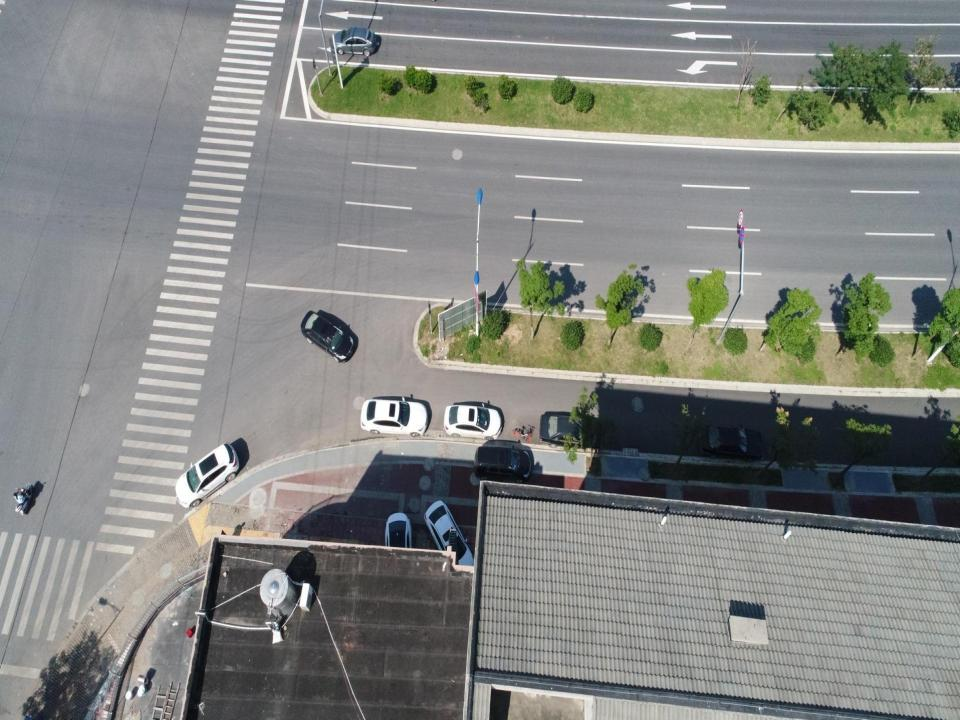car: (175, 441, 239, 509), (423, 500, 475, 580), (300, 310, 354, 363), (360, 397, 428, 437), (699, 423, 765, 463), (443, 401, 502, 441), (539, 412, 601, 448), (474, 445, 531, 483), (384, 511, 412, 580), (329, 26, 376, 56)
